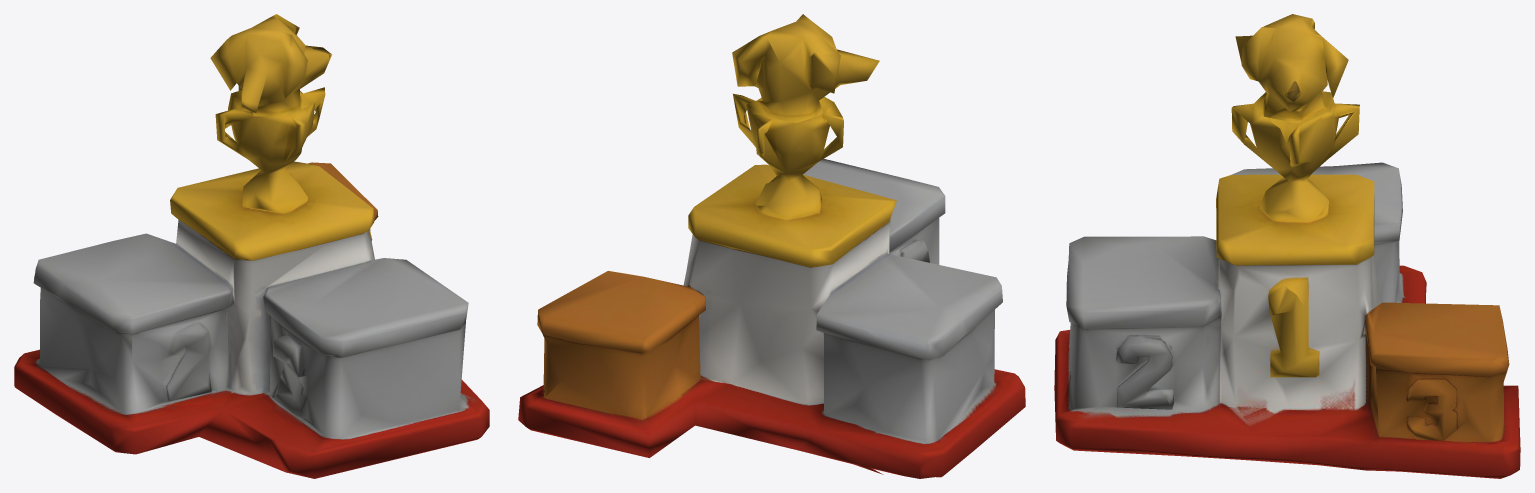
Rendered from podium.glb.
3 views of the same model, side by side, from view 1: azimuth 30°, elevation 25°; view 2: azimuth 150°, elevation 25°; view 3: azimuth 270°, elevation 25° (orthographic). The views are drawn at different scales.
Parts seen in each view (by area): view 1: tripo_node_c19e2aad-e2b0-463a-96c9-b12af8c5728e; view 2: tripo_node_c19e2aad-e2b0-463a-96c9-b12af8c5728e; view 3: tripo_node_c19e2aad-e2b0-463a-96c9-b12af8c5728e.
Boxes of the visible parts, x1,y1,x2,y2 form: tripo_node_c19e2aad-e2b0-463a-96c9-b12af8c5728e: (14,14,489,478); tripo_node_c19e2aad-e2b0-463a-96c9-b12af8c5728e: (518,14,1025,478); tripo_node_c19e2aad-e2b0-463a-96c9-b12af8c5728e: (1054,14,1520,478).
Size of the model in its own units: 0.9604 by 0.8807 by 1.
1 material, 1 textured.
